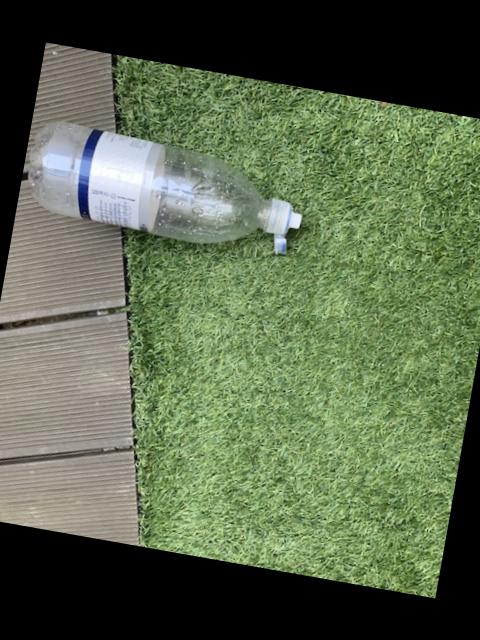plastic: (27, 120, 298, 251)
